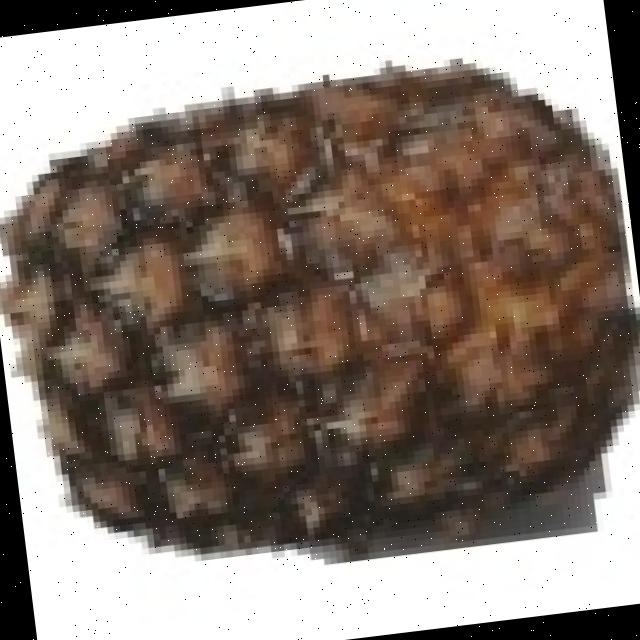pineapple: (0, 58, 618, 542)
